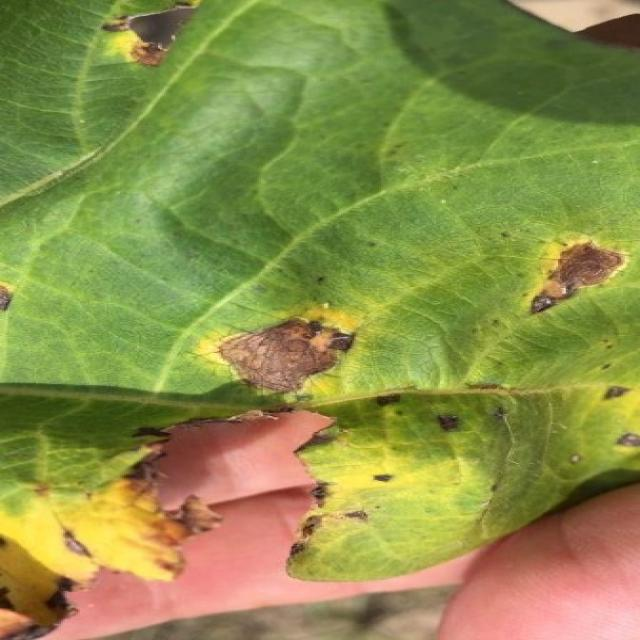Bacterial Blight: (104, 292, 382, 580)
